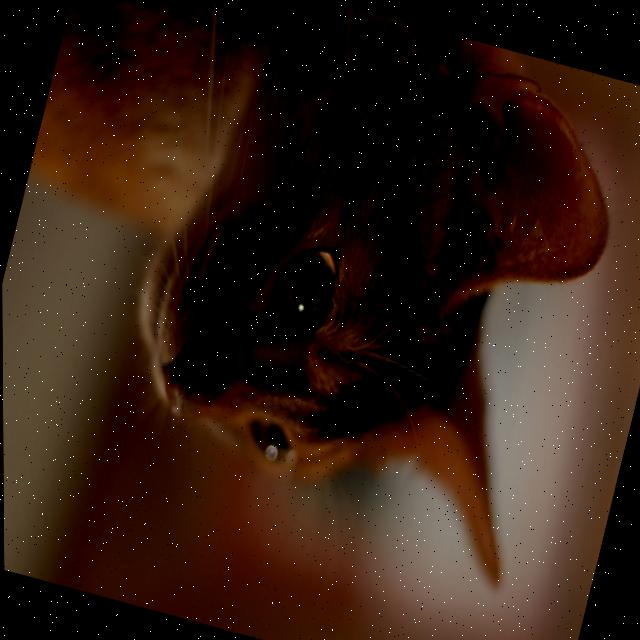Abyssinian: (0, 0, 640, 599)
